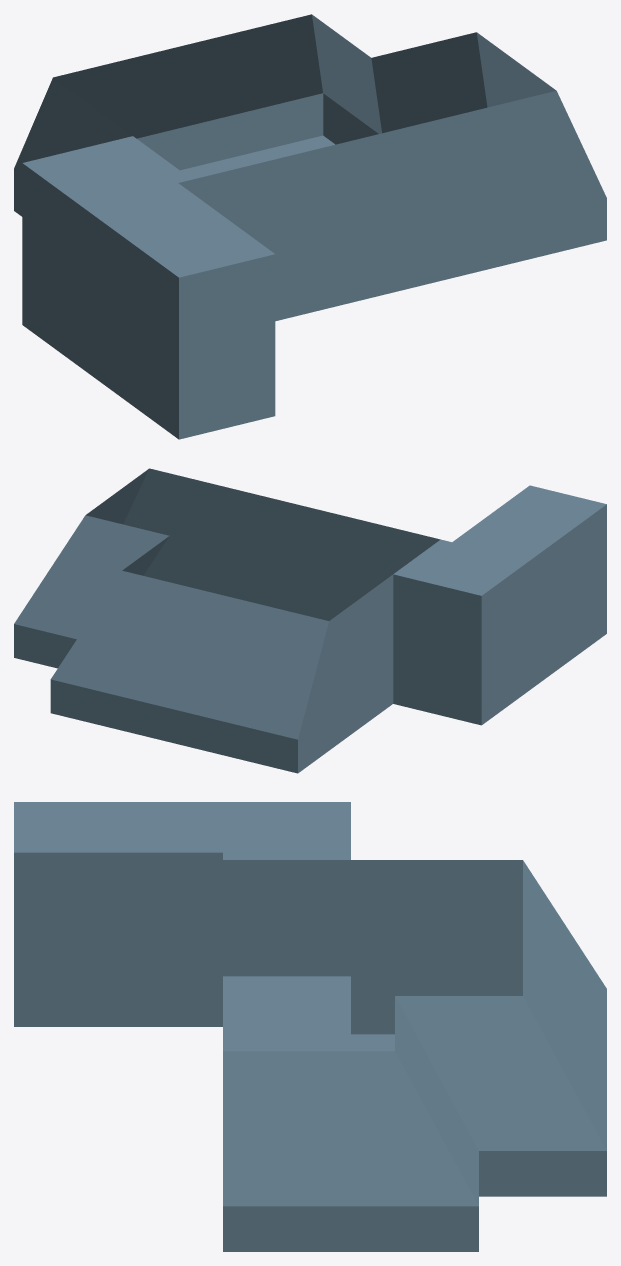
File: physMesh.gltf
3 views of the same model, one above another, from view 1: azimuth 30°, elevation 25°; view 2: azimuth 150°, elevation 25°; view 3: azimuth 270°, elevation 25° (orthographic). The views are drawn at different scales.
Parts seen in each view (by area): view 1: Plane; view 2: Plane; view 3: Plane.
Part boxes in pixels (x1,y1,x2,y2): Plane: (14, 14, 606, 439); Plane: (14, 468, 606, 773); Plane: (14, 802, 606, 1251).
Bounding box in the file's own units: 11.72 × 3.45 × 10.65.
1 material, 1 textured.
